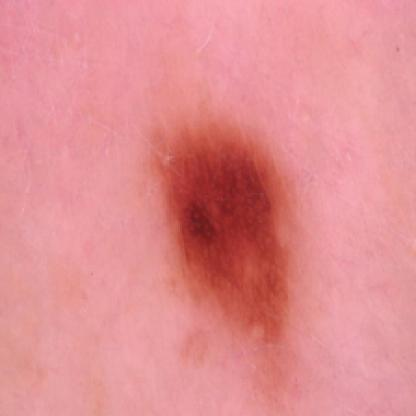benign: (147, 130, 321, 318)
